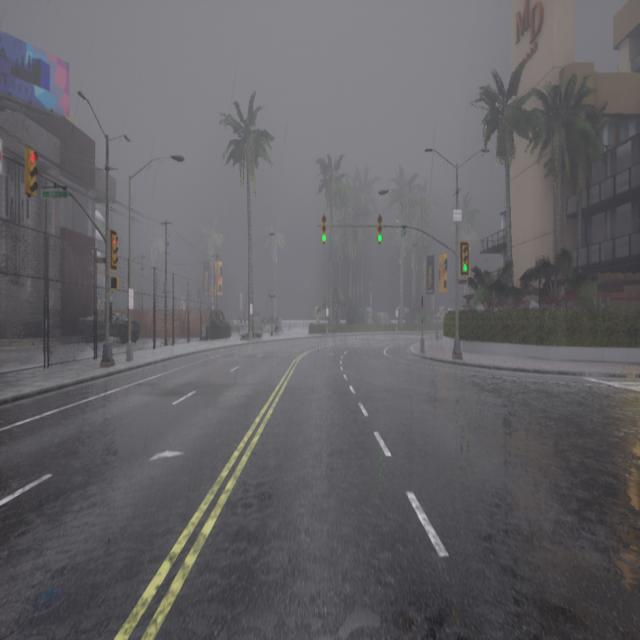6: (27, 148, 38, 163), (111, 234, 118, 245)
9: (23, 144, 39, 199), (110, 230, 119, 270), (460, 243, 469, 275), (376, 214, 384, 245), (321, 213, 327, 246)
bien_hieu_lenh: (321, 233, 327, 244), (377, 233, 383, 244), (462, 263, 468, 273)
